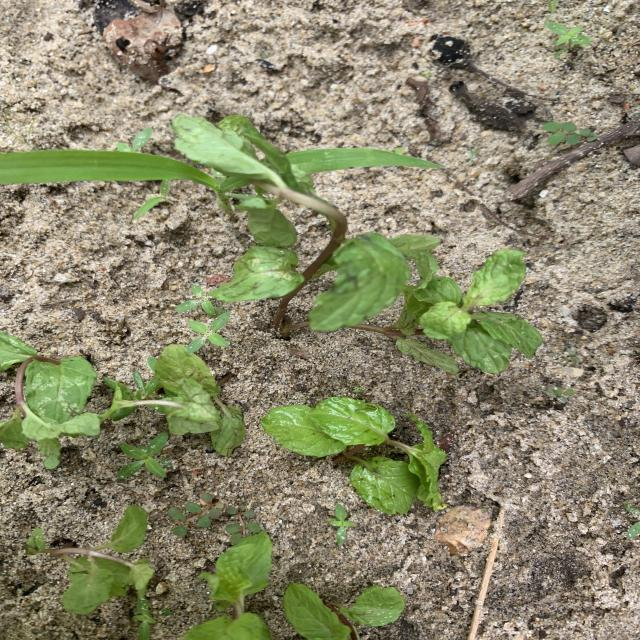crop: (173, 115, 542, 374), (1, 334, 244, 467), (262, 398, 447, 515), (26, 505, 152, 613), (184, 530, 271, 639), (284, 584, 403, 639)
weed: (1, 149, 232, 214), (284, 150, 443, 172), (169, 495, 225, 535), (119, 433, 167, 478), (188, 310, 230, 351), (545, 21, 590, 57), (134, 180, 169, 219), (176, 285, 217, 315), (543, 122, 595, 145), (225, 506, 260, 538), (329, 505, 354, 543), (133, 598, 155, 639), (116, 128, 151, 151), (624, 503, 639, 538), (547, 386, 573, 403), (550, 349, 579, 363), (161, 609, 171, 615)
